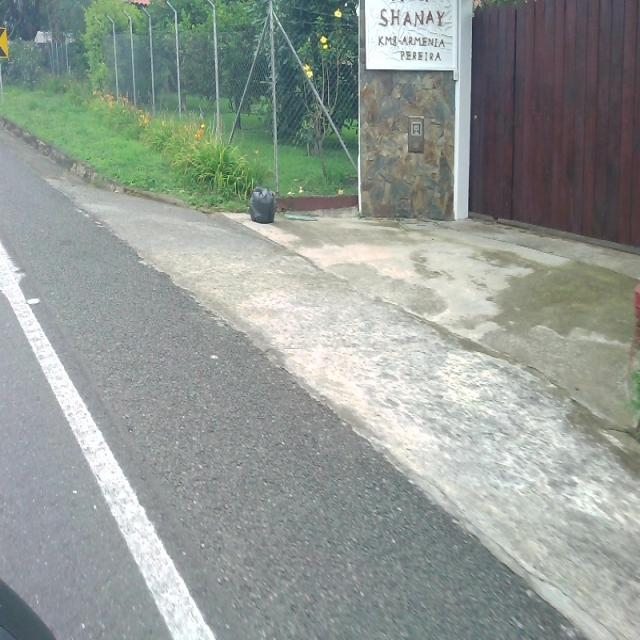DITCH: (2, 117, 637, 638)
